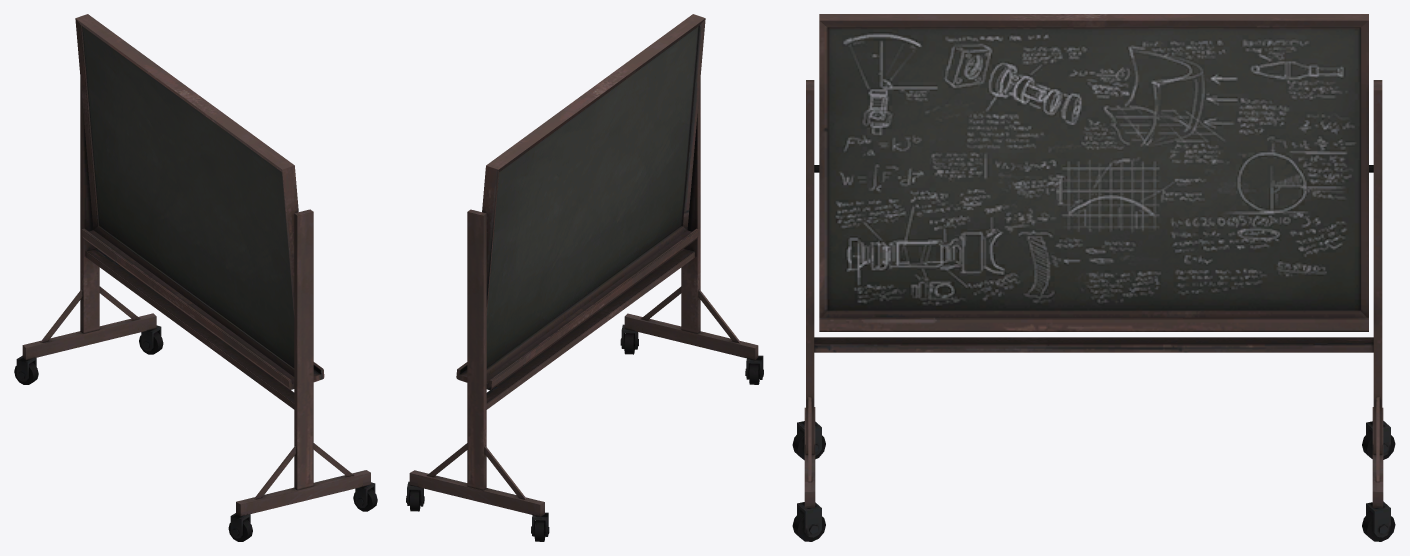
Rendered from med_blackboard.glb.
3 views of the same model, side by side, from view 1: azimuth 30°, elevation 25°; view 2: azimuth 150°, elevation 25°; view 3: azimuth 270°, elevation 25° (orthographic). The views are drawn at different scales.
Parts seen in each view (by area): view 1: med_blackboard; view 2: med_blackboard; view 3: med_blackboard.
Boxes of the visible parts, bbox=[...] form: med_blackboard: bbox=[14, 14, 377, 541]; med_blackboard: bbox=[406, 14, 763, 541]; med_blackboard: bbox=[792, 14, 1395, 541].
Bounding box in the file's own units: 0.9455 × 2.28 × 2.62.
Materials: 1 (1 with a texture image).
